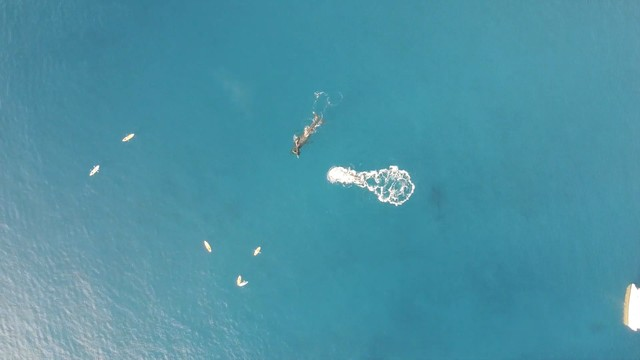whale: (283, 107, 330, 161)
